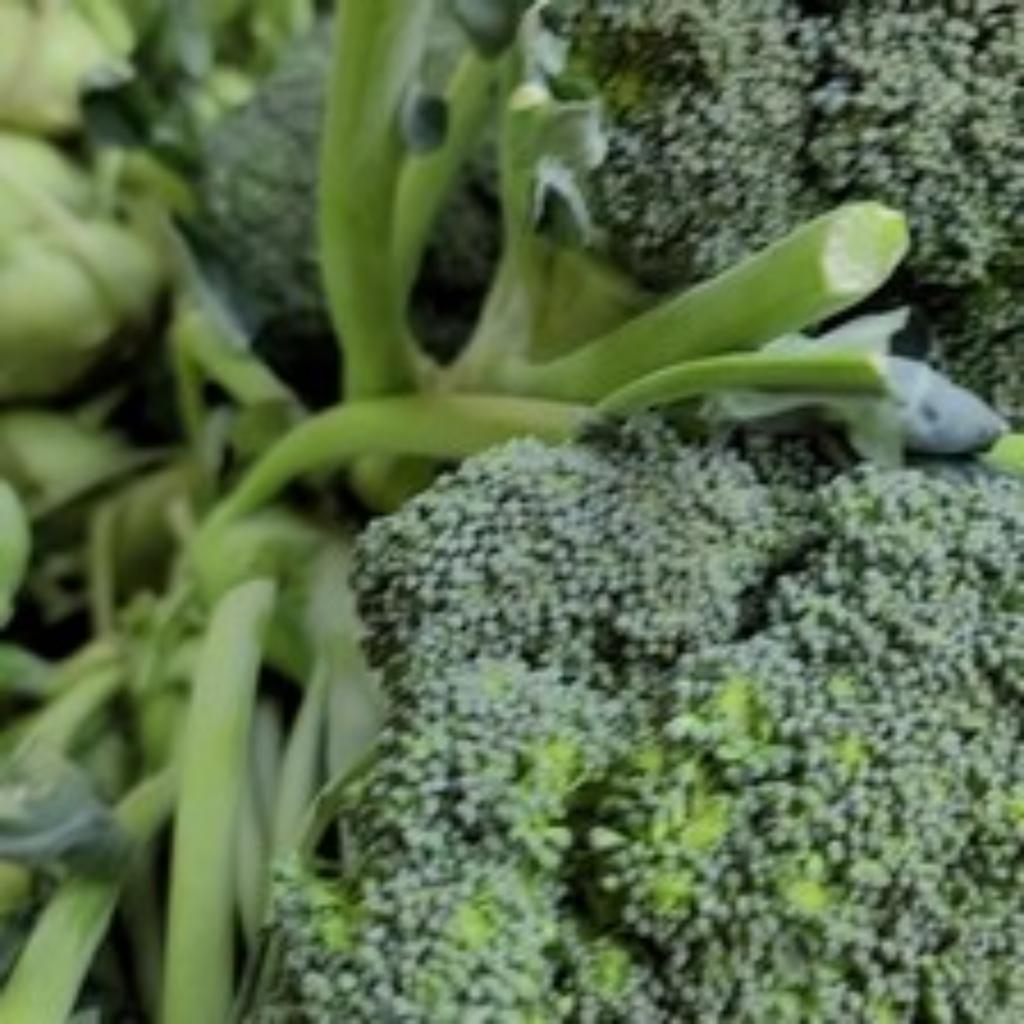Broccoli: (265, 420, 1024, 1024), (269, 422, 1024, 1024), (560, 0, 1024, 419)
